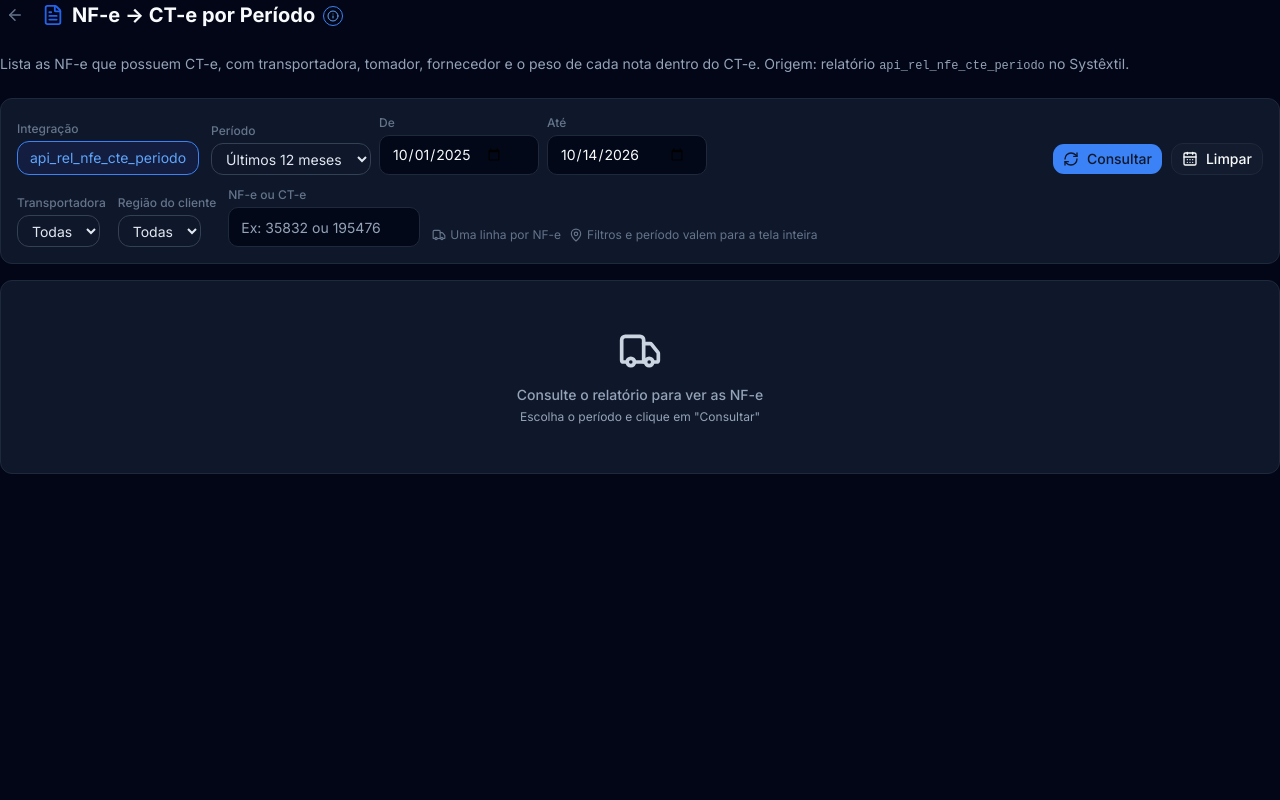
Scenario: NfeCtePage › filtra por número de NF-e
This screenshot has width=1280, height=800.
Expected: the button "api_rel_nfe_cte_periodo" is shown, [17, 141, 199, 175]
Click the button "Consultar" at {"x": 1107, "y": 159}, box [1052, 143, 1163, 175]
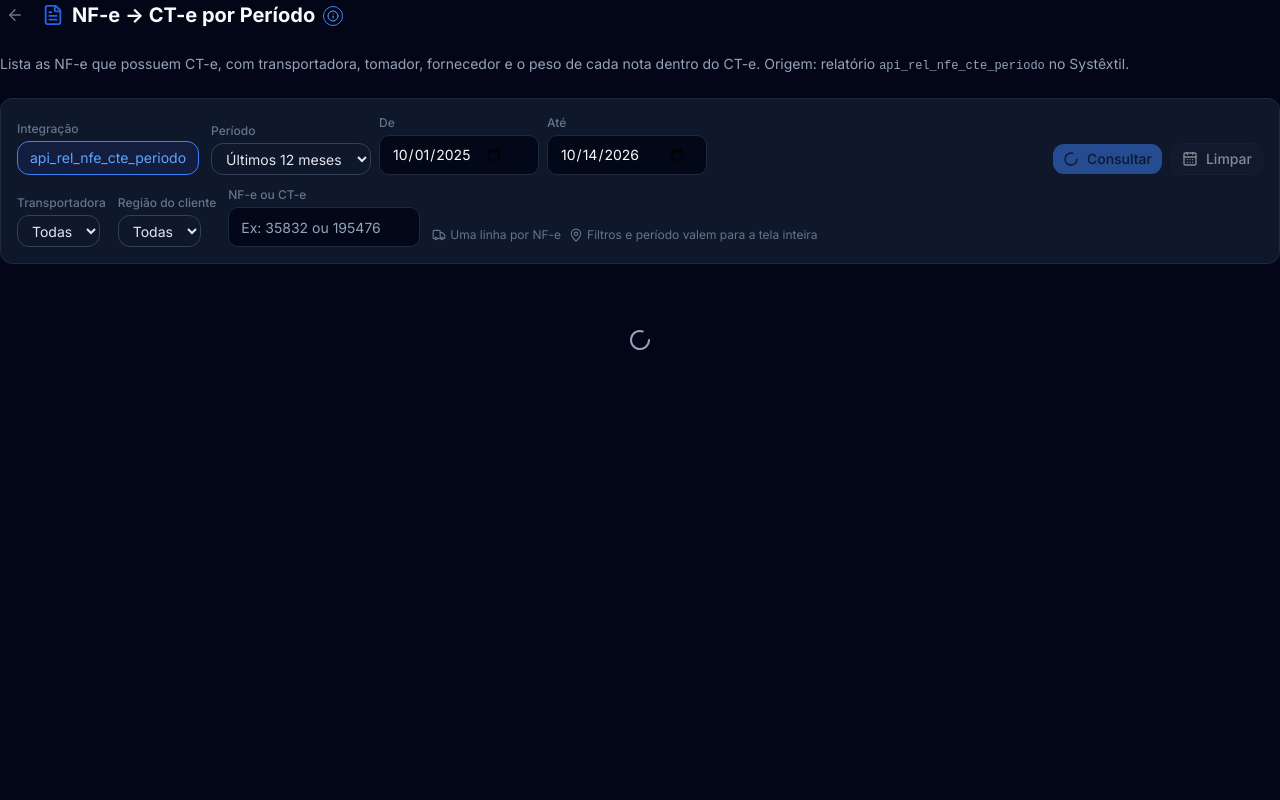
Type "35835" into the field labelled "NF-e ou CT-e" at {"x": 324, "y": 227}, box [228, 207, 420, 247]
(page scrolled)
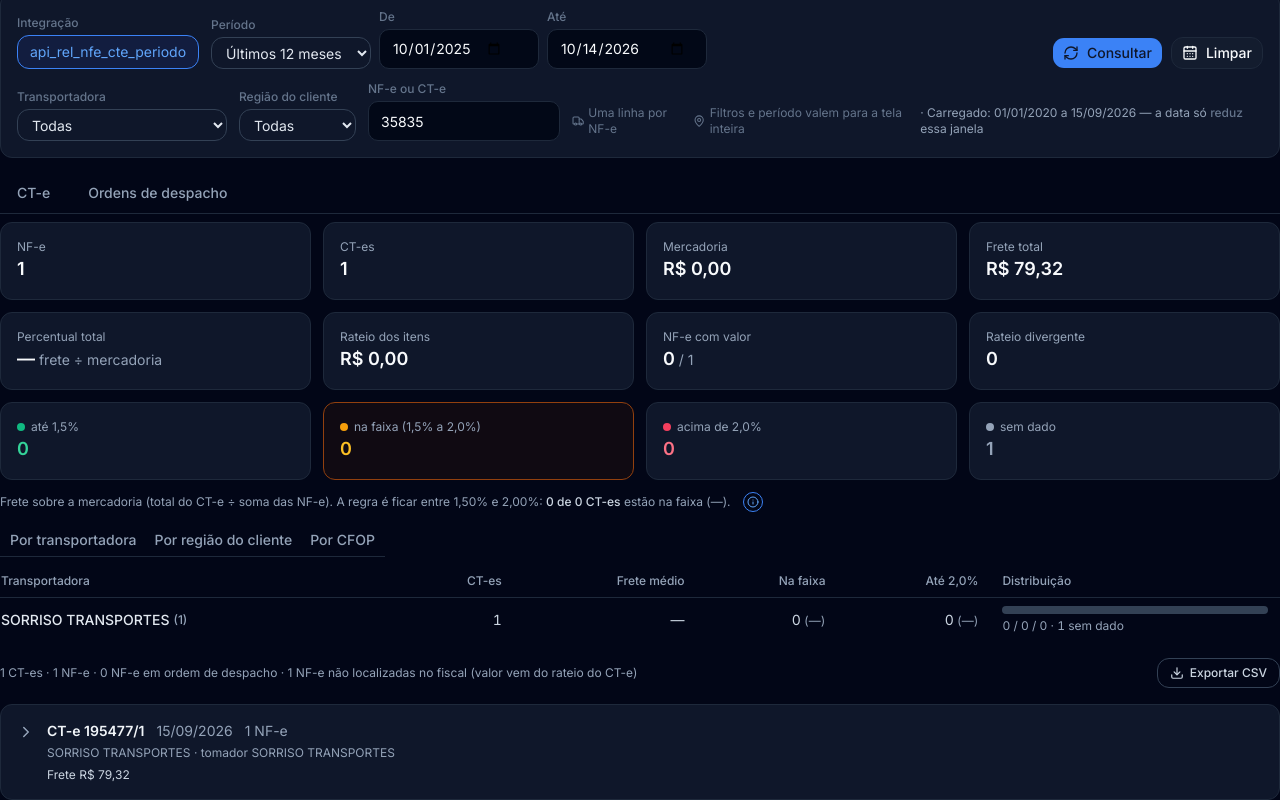
Expected: the text "CT-e 195477/1" is shown, [47, 721, 144, 741]
